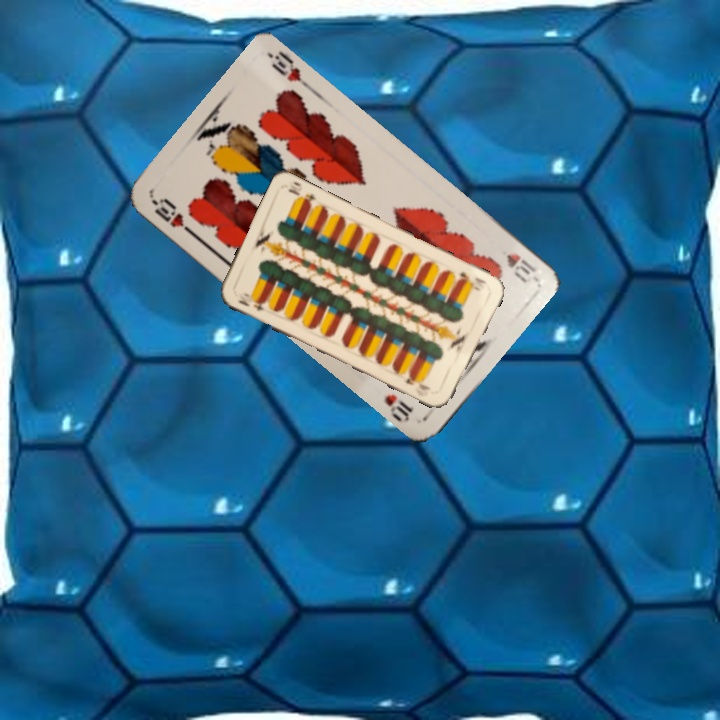E10: (234, 289, 267, 314), (455, 267, 489, 287)
H10: (148, 194, 197, 238), (501, 249, 539, 285)
